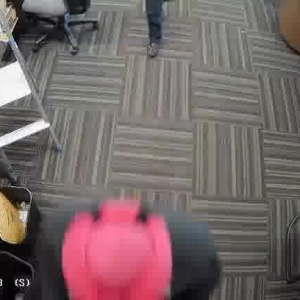person: (47, 200, 208, 298)
